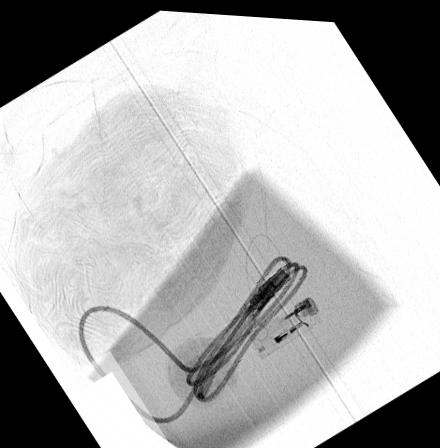Lighter: (245, 292, 320, 355)
